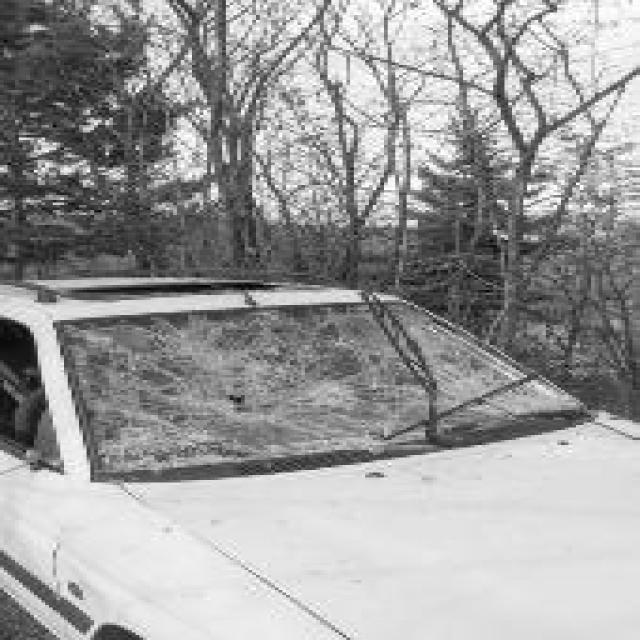Windshield: (56, 315, 599, 458)
